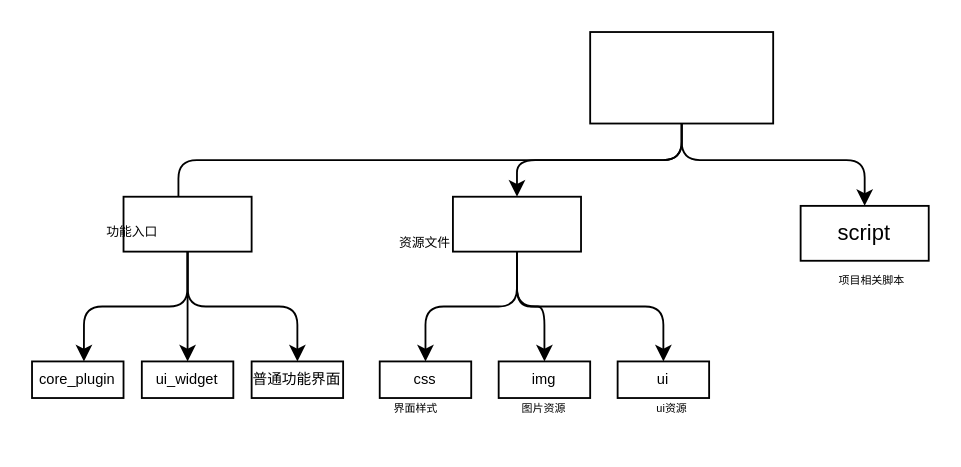
This 961x467 diagram has some shape labels left out. Each missing label, with the box of its shape:
GUI: (588, 30, 773, 124)
plugins: (122, 195, 252, 252)
resource: (451, 195, 581, 252)
